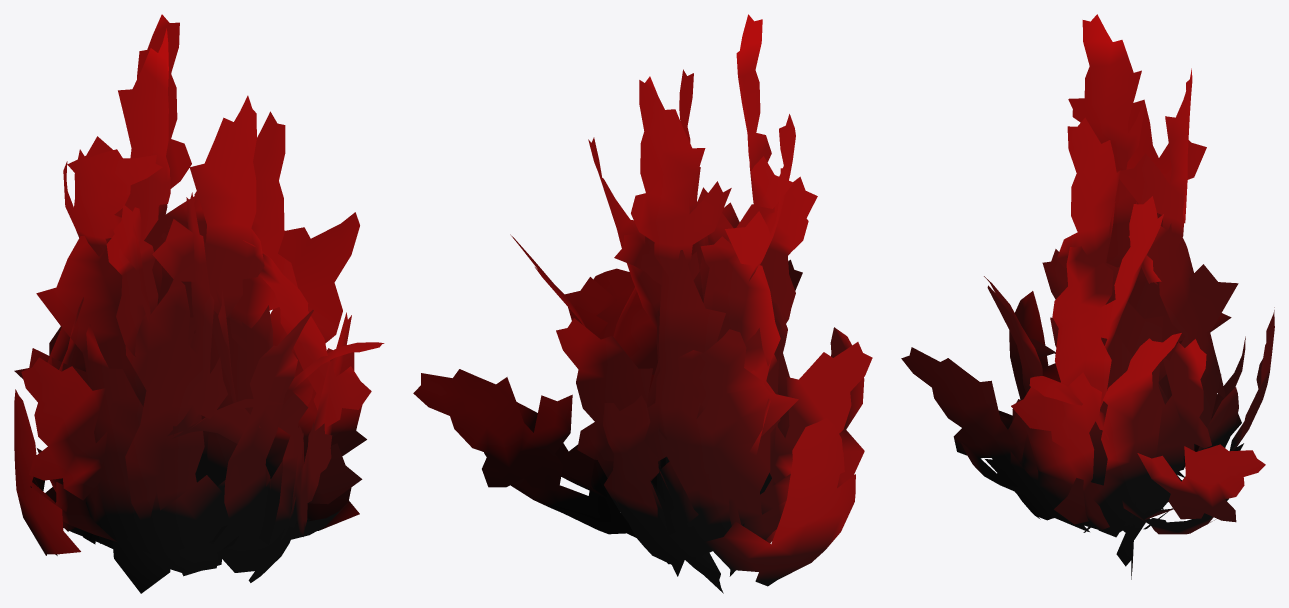
The model's file is SM_bush_02.FBX.
3 views of the same model, side by side, from view 1: azimuth 30°, elevation 25°; view 2: azimuth 150°, elevation 25°; view 3: azimuth 270°, elevation 25° (orthographic). The views are drawn at different scales.
Visible parts, largest first — view 1: SM_bush_02_LOD0; view 2: SM_bush_02_LOD0; view 3: SM_bush_02_LOD0.
Boxes of the visible parts, box(x1,y1,x2,y2) form: SM_bush_02_LOD0: box(14, 14, 384, 593); SM_bush_02_LOD0: box(413, 14, 872, 593); SM_bush_02_LOD0: box(901, 14, 1274, 579).
Size of the model in its own units: 106 by 99.75 by 146.
